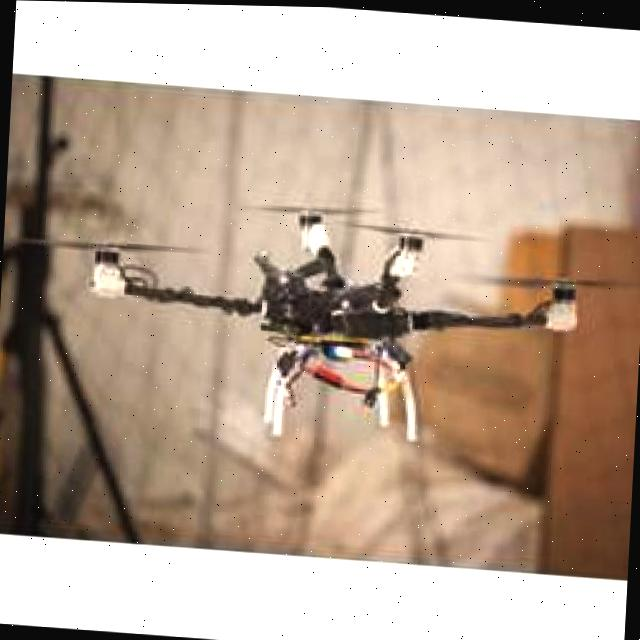drone: (28, 159, 634, 457)
